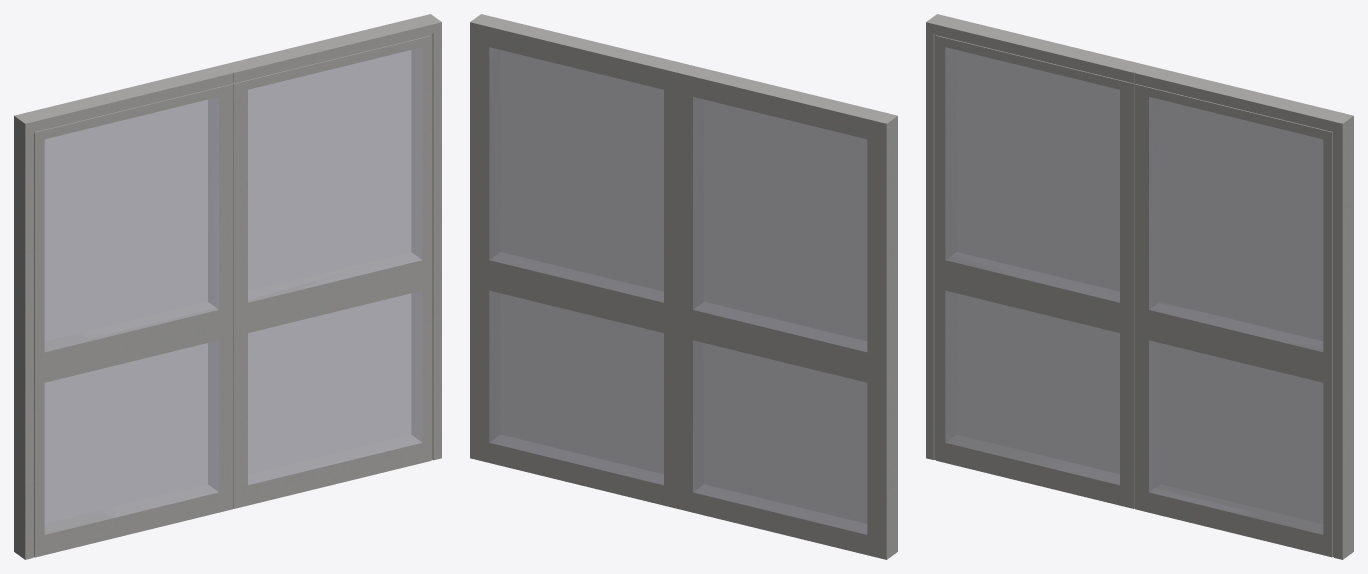
Rendered from entrance_door.dae.
3 renders of one model, left to right at view 1: azimuth 30°, elevation 25°; view 2: azimuth 150°, elevation 25°; view 3: azimuth 330°, elevation 25°, orthographic.
Visible parts, largest first — view 1: entrance_door, dvere_vchodove1; view 2: entrance_door, dvere_vchodove1; view 3: entrance_door, dvere_vchodove1.
Boxes of the visible parts, x1,y1,x2,y2 form: entrance_door: (44,47,422,534); dvere_vchodove1: (14,14,441,559); entrance_door: (489,47,867,534); dvere_vchodove1: (470,14,897,559); entrance_door: (945,47,1323,534); dvere_vchodove1: (926,14,1353,559).
Size of the model in its own units: 2.15 by 0.1 by 2.15.
Materials: 2 (1 with a texture image).
